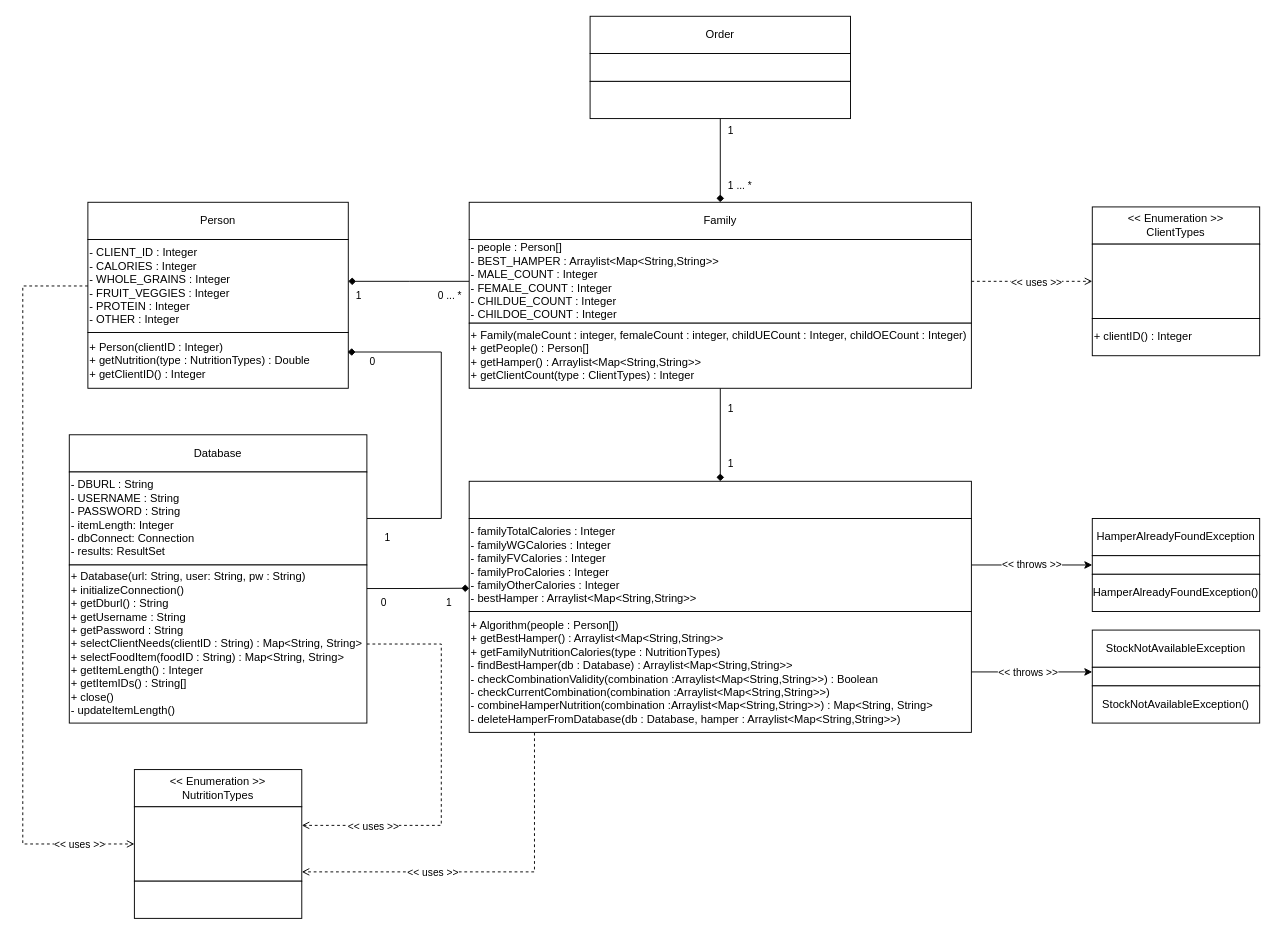
The diagram is 1276 pixels wide and 935 high, and some of its shapes have lost their labels. Here are the shapes that lost their labels. From the top down, the box of each, then its label:
(589, 53, 850, 81): - families : Family[]
(589, 80, 850, 119): + Order(orderList : Arraylist<Map<String,String>>) + getFamilies() : Family[]
(1091, 243, 1260, 319): MALE FEMALE CHILDUE CHILDOE
(468, 480, 971, 518): Algorithm
(133, 806, 302, 881): CALORIES WHOLE_GRAINS FRUIT_VEGGIES PROTEIN OTHER
(133, 880, 302, 918): + asString() : String
